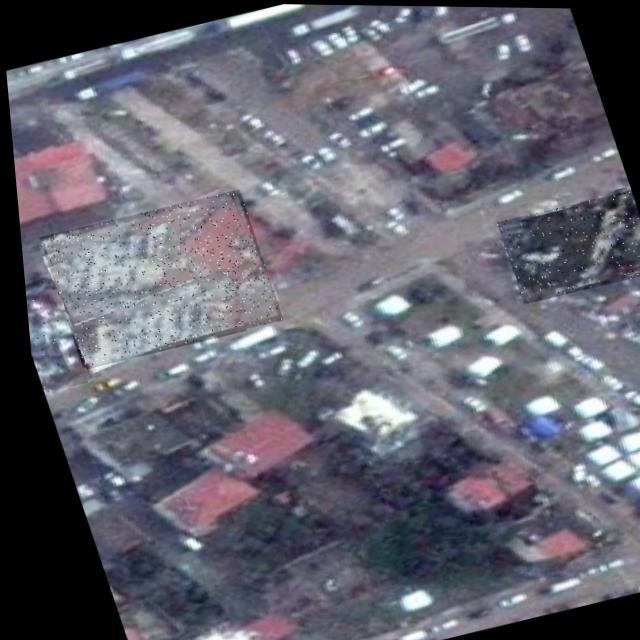Rubble: (30, 186, 280, 370), (55, 267, 242, 371), (489, 186, 640, 304), (38, 220, 193, 315), (19, 275, 83, 394)
